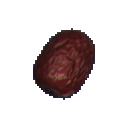gd: (23, 23, 121, 113)
